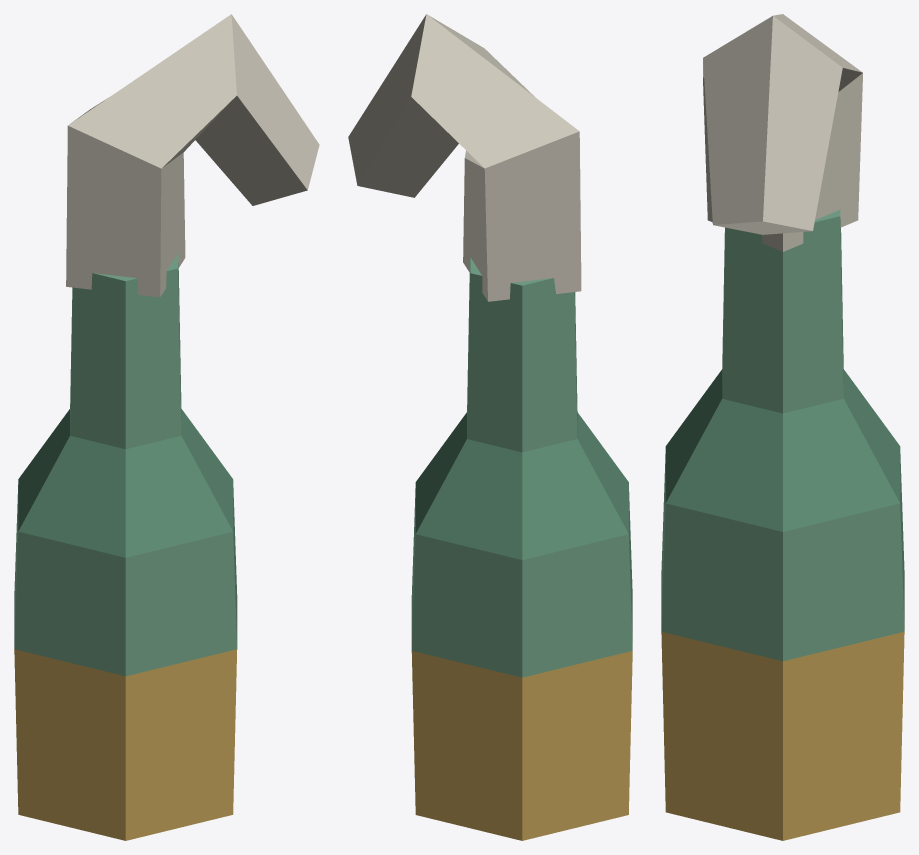
File: molotov.glb
3 views of the same model, side by side, from view 1: azimuth 30°, elevation 25°; view 2: azimuth 150°, elevation 25°; view 3: azimuth 270°, elevation 25° (orthographic). The views are drawn at different scales.
Visible parts, largest first — view 1: molotov; view 2: molotov; view 3: molotov.
Part boxes in pixels (x1,y1,x2,y2): molotov: (14, 14, 319, 840); molotov: (348, 14, 632, 840); molotov: (661, 14, 904, 840).
Bounding box in the file's own units: 0.3721 × 0.9045 × 0.2425.
